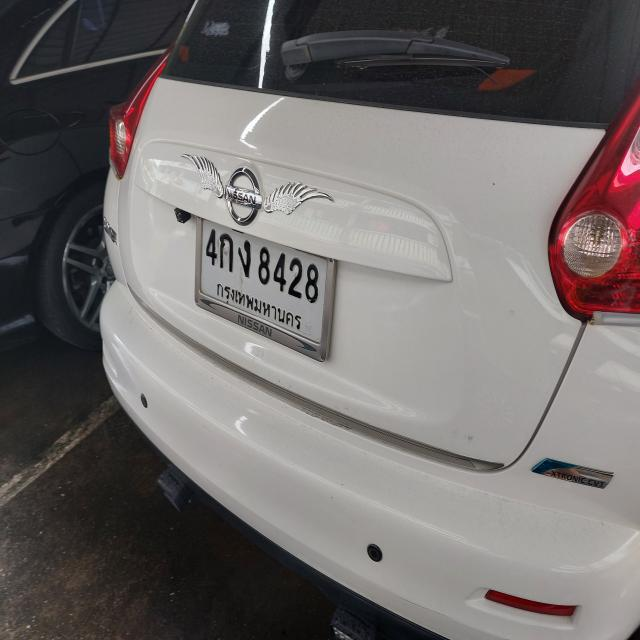license_plate: (194, 210, 334, 362)
